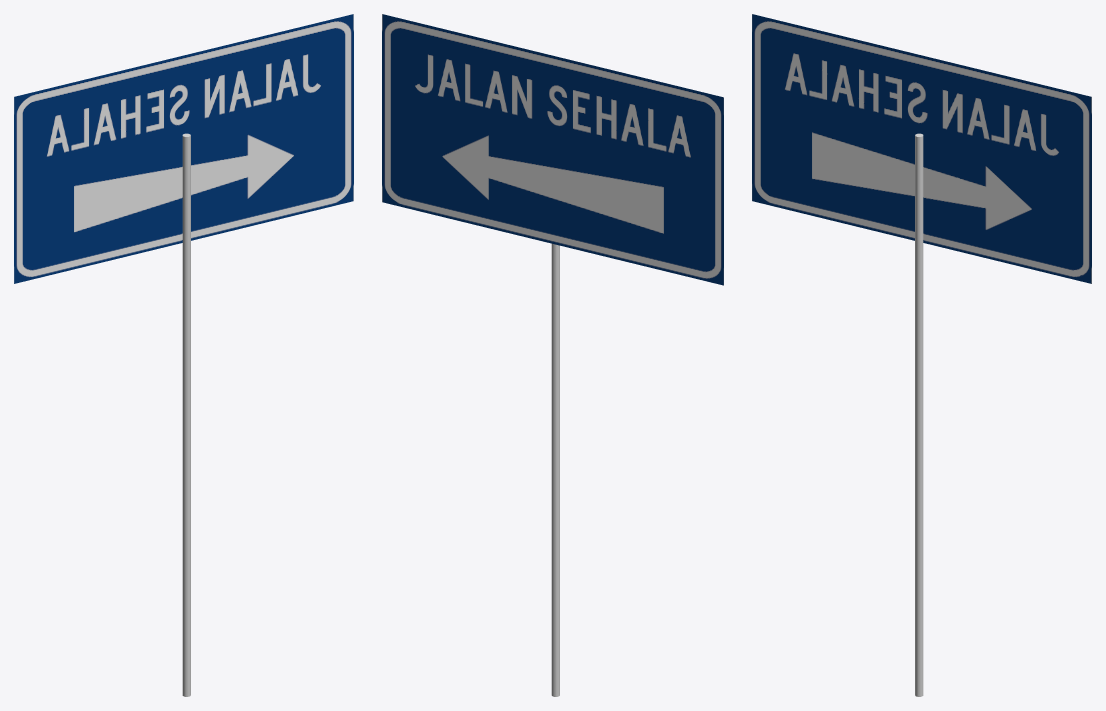
The model's file is jalan sehala.fbx.
The picture shows the model from 3 angles, left to right: view 1: azimuth 30°, elevation 25°; view 2: azimuth 150°, elevation 25°; view 3: azimuth 330°, elevation 25°; orthographic projection.
Parts seen in each view (by area): view 1: Plane, Cylinder; view 2: Plane, Cylinder; view 3: Plane, Cylinder.
Part boxes in pixels (bbox=[...]): Plane: bbox=[14, 14, 353, 283]; Cylinder: bbox=[182, 133, 190, 696]; Plane: bbox=[382, 14, 723, 285]; Cylinder: bbox=[551, 243, 559, 696]; Plane: bbox=[752, 14, 1091, 283]; Cylinder: bbox=[915, 133, 923, 696].
Size of the model in its own units: 380 by 682 by 9.27.
